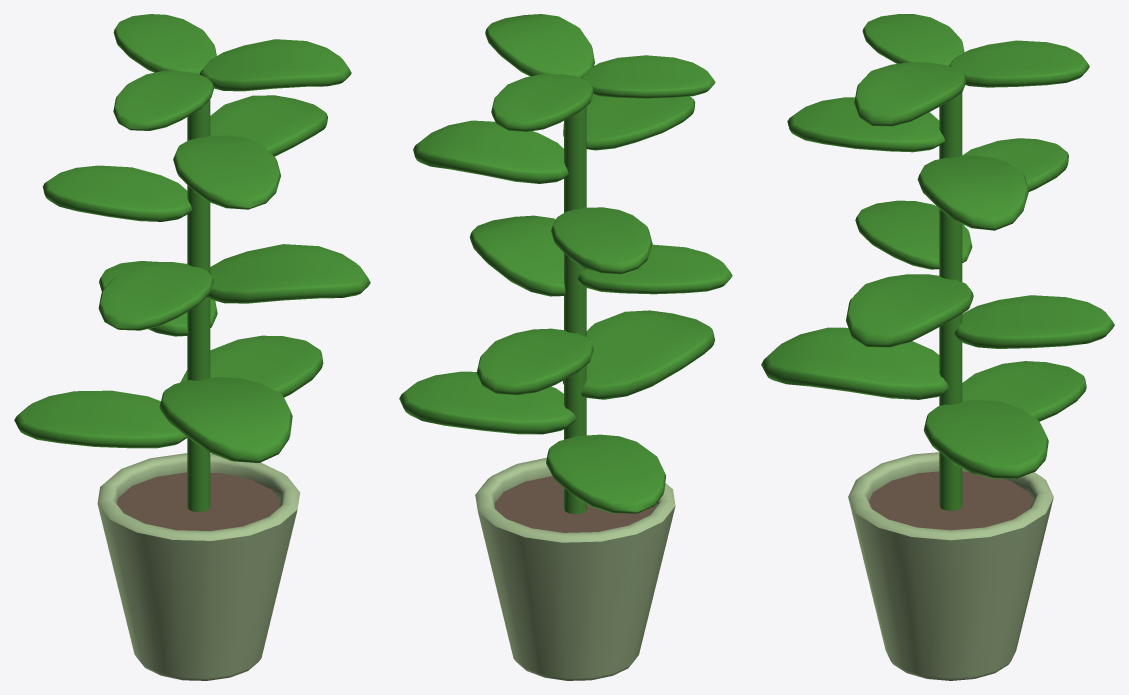
Rendered from Plant_18.glb.
3 renders of one model, left to right at view 1: azimuth 30°, elevation 25°; view 2: azimuth 150°, elevation 25°; view 3: azimuth 270°, elevation 25°, orthographic.
Parts seen in each view (by area): view 1: Plant_18; view 2: Plant_18; view 3: Plant_18.
Boxes of the visible parts, box(x1,y1,x2,y2) form: Plant_18: box(14, 14, 370, 680); Plant_18: box(399, 14, 732, 680); Plant_18: box(761, 14, 1114, 680).
Bounding box in the file's own units: 0.25 × 0.5194 × 0.2767.
1 material, 1 textured.
